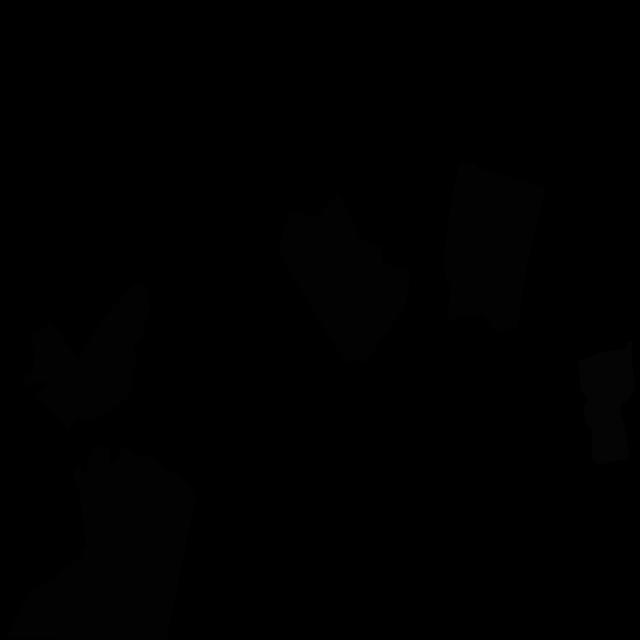cardboard: (5, 445, 196, 640), (278, 194, 410, 365), (22, 280, 150, 432), (444, 163, 545, 332)
soft_plastic: (578, 340, 635, 464)
